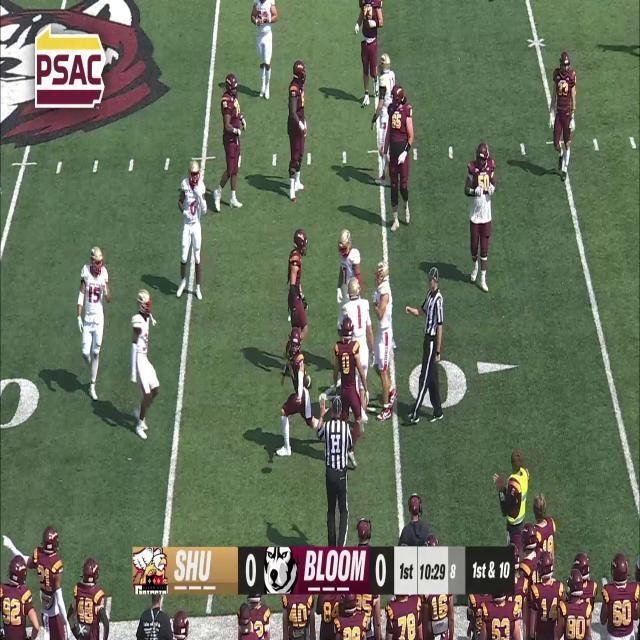football: (304, 375, 312, 391)
